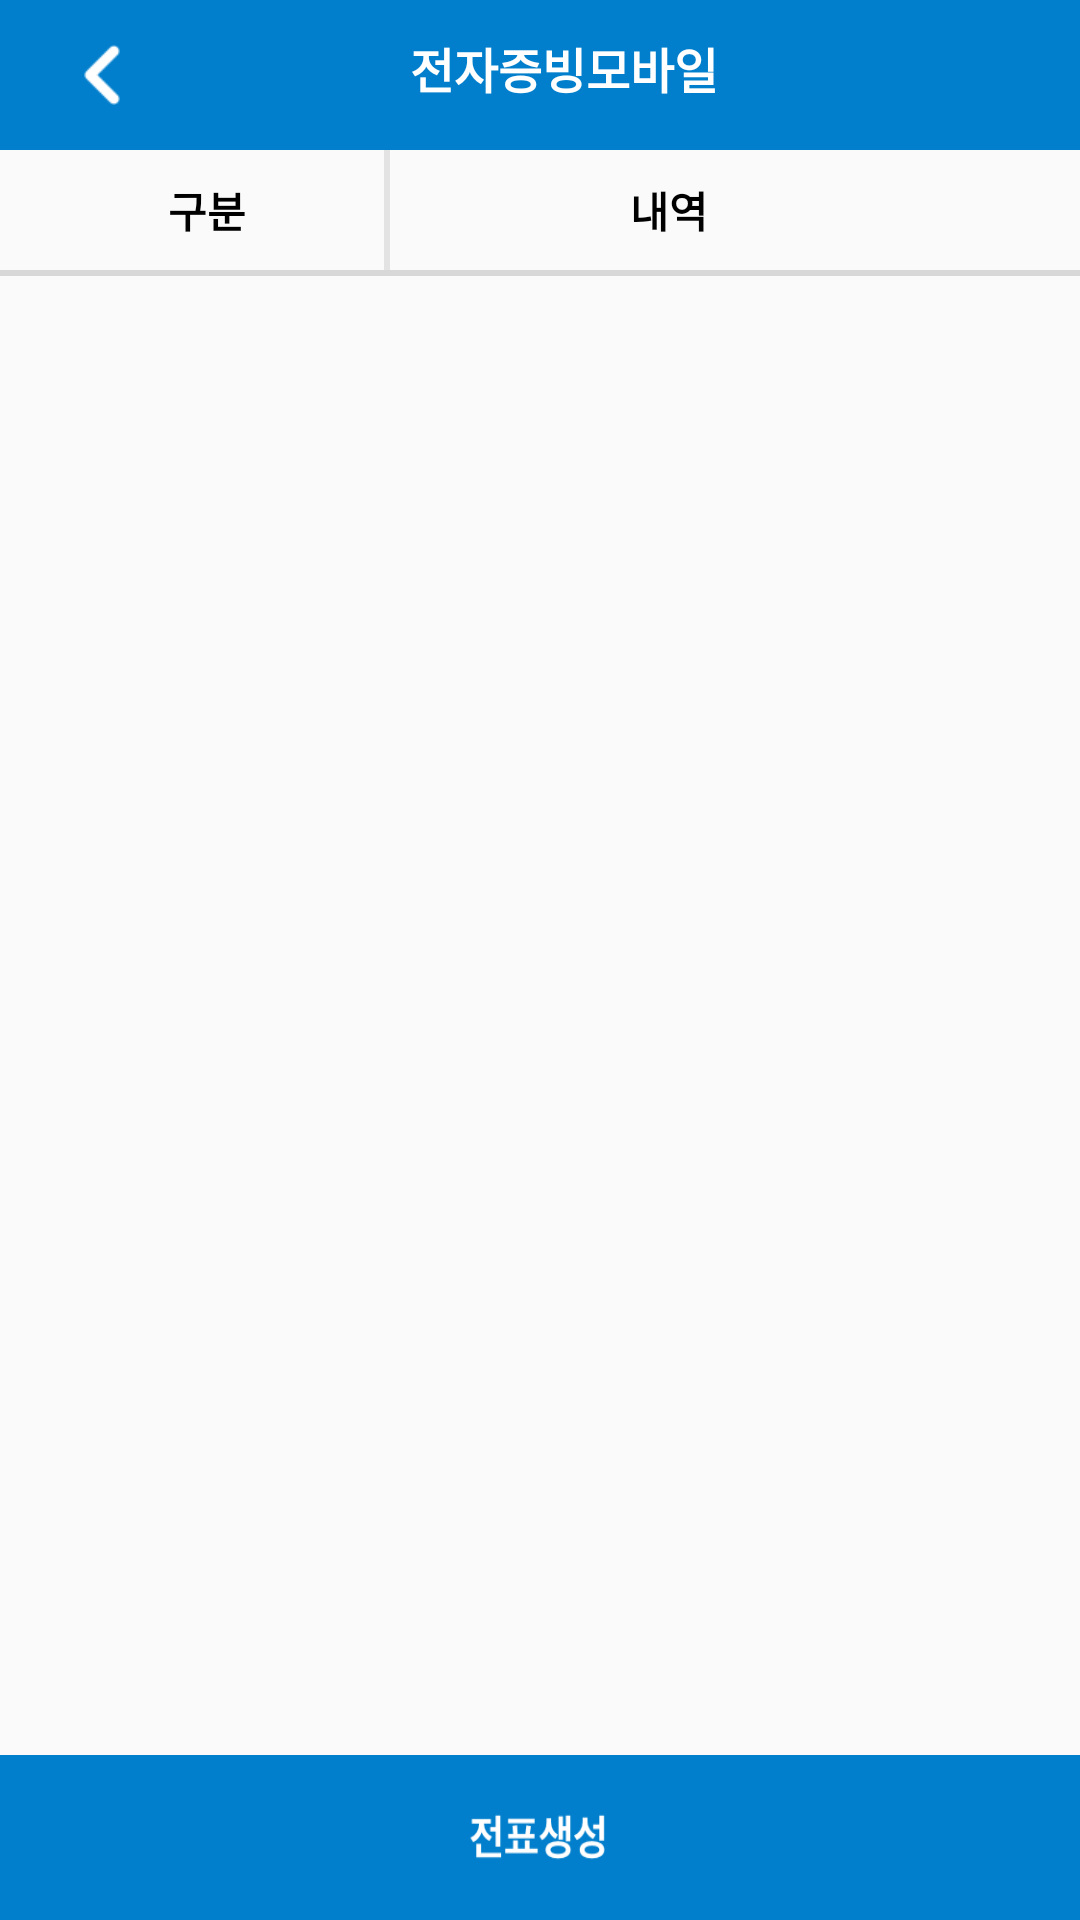

Screen size 1080w x 1920h. Icon name, then its box in pixels as box=[x1, y1, x2, y2]:
back: box=[84, 45, 120, 105]
